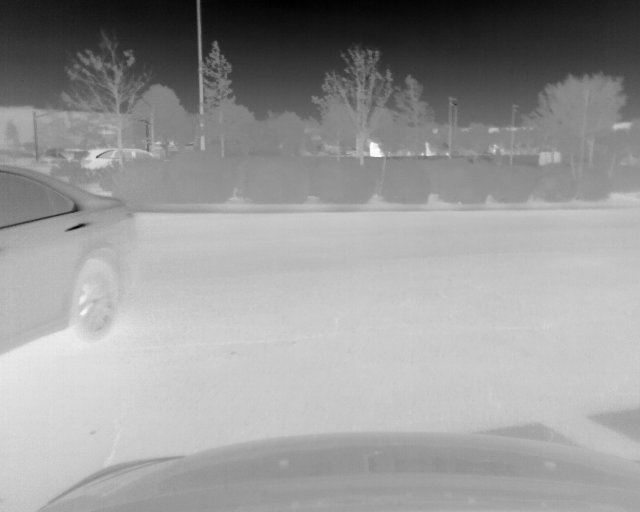car: (1, 165, 138, 355), (77, 148, 163, 171)
